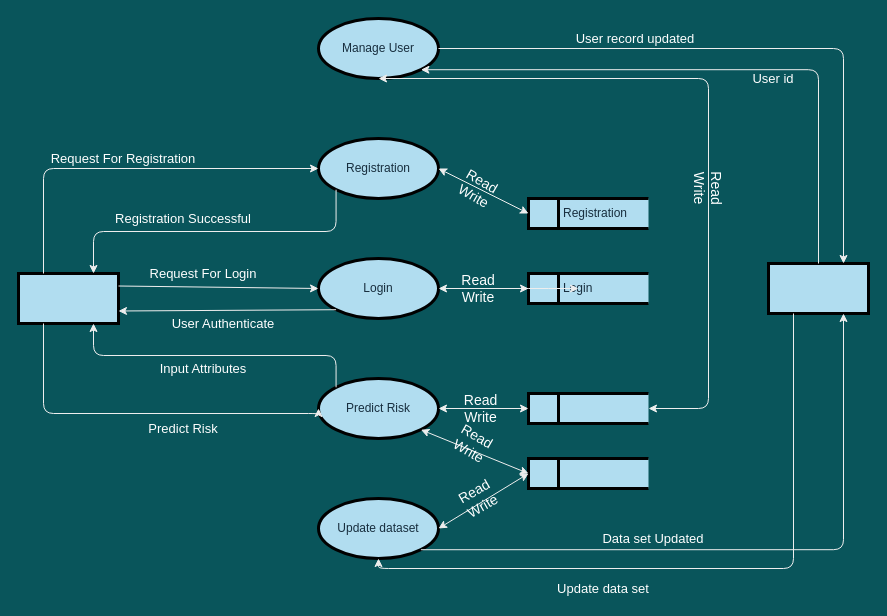
Image size: 887x616. Some labels were removed from this diagram. The centre of each missing label's shape, as x and y in pixels:
Admin: (818,288)
DDMS Dataset: (588,473)
User: (68,298)
User Records: (588,408)
